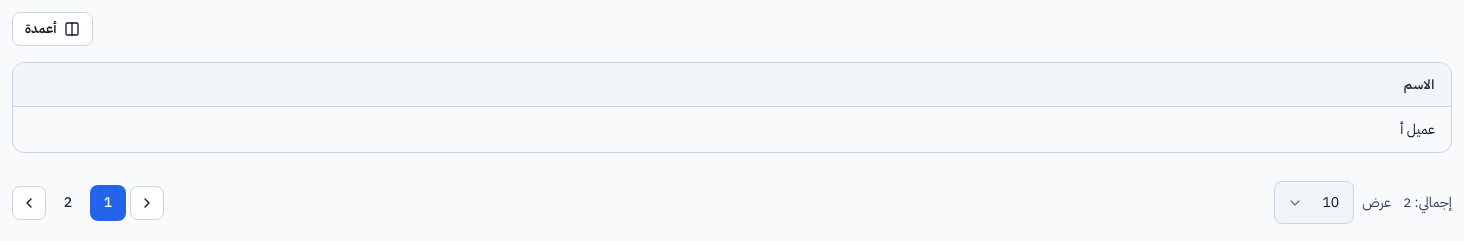
Test: DataTable pagination › paginates data when the page size is smaller than the dataset
The width and height of the screenshot is (1464, 241).
Expected: the text "عميل أ" is shown, [13, 106, 1451, 152]
Expected: the text "عميل ب" is not shown
Step 1. Click the button named "الصفحة التالية" → x=29, y=202, box [12, 186, 46, 220]
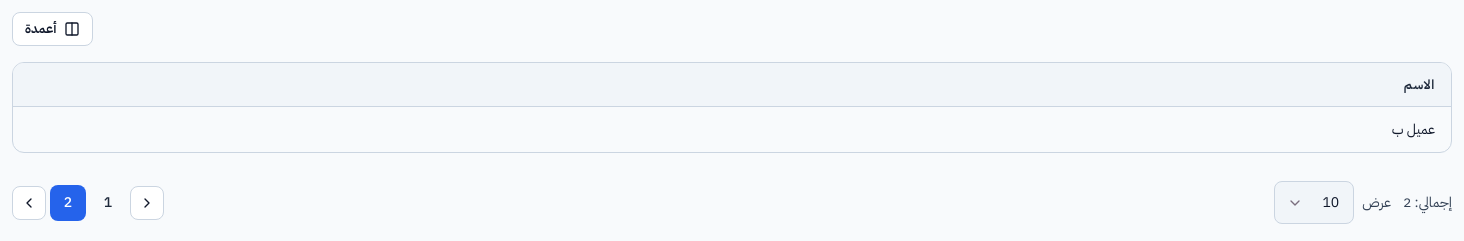
Now the text "عميل ب" is shown, box [13, 106, 1451, 152]
